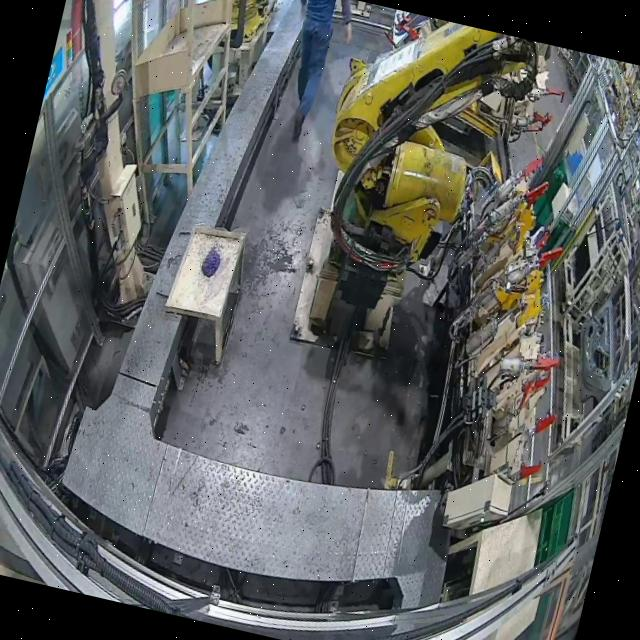Person: (266, 0, 360, 148)
